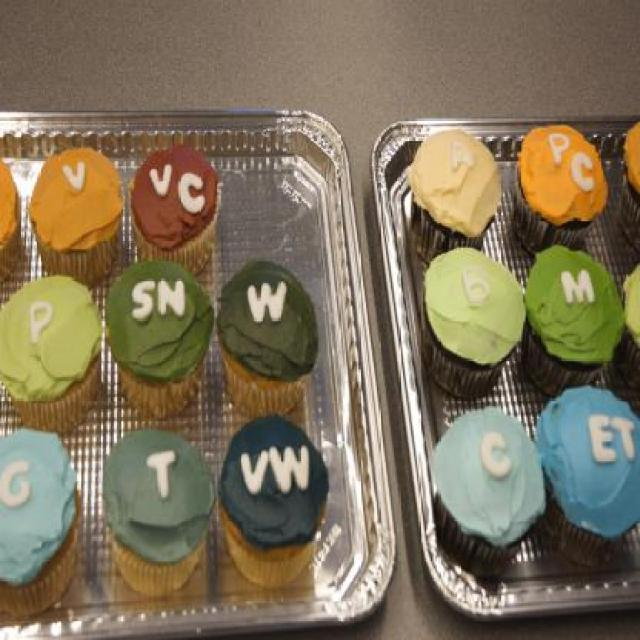Muffin: (0, 142, 332, 617), (403, 116, 640, 582)
